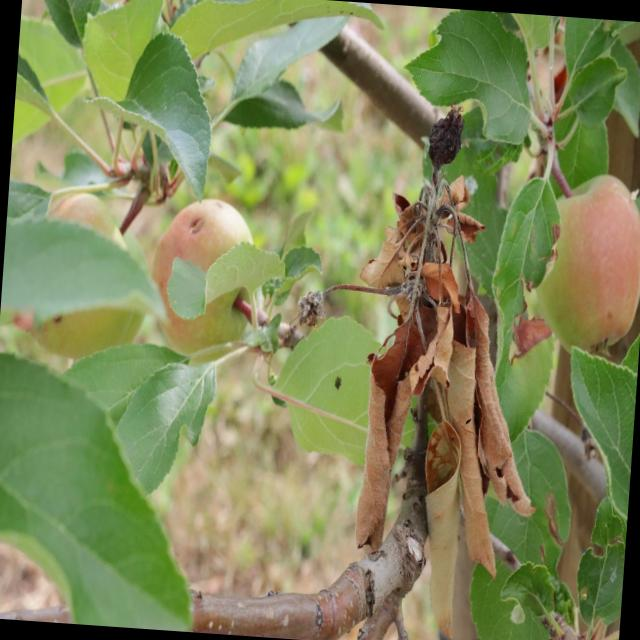-FireBlight-: (345, 157, 544, 627)
